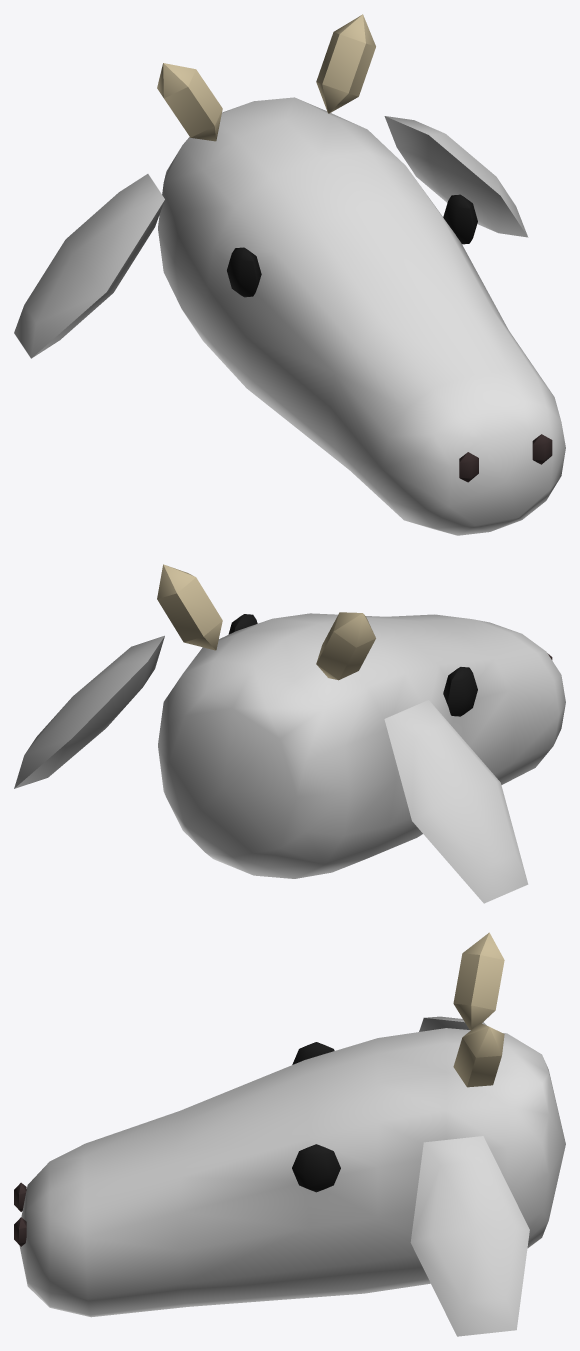
Rendered from part_cow_head.glb.
The picture shows the model from 3 angles, top to bottom: view 1: azimuth 30°, elevation 25°; view 2: azimuth 150°, elevation 25°; view 3: azimuth 270°, elevation 25°; orthographic projection. The views are drawn at different scales.
Parts seen in each view (by area): view 1: cow_head; view 2: cow_head; view 3: cow_head.
Boxes of the visible parts, x1,y1,x2,y2 form: cow_head: (14,14,565,535); cow_head: (14,564,565,903); cow_head: (14,932,565,1336).
Size of the model in its own units: 0.5422 by 0.3495 by 0.5382.
